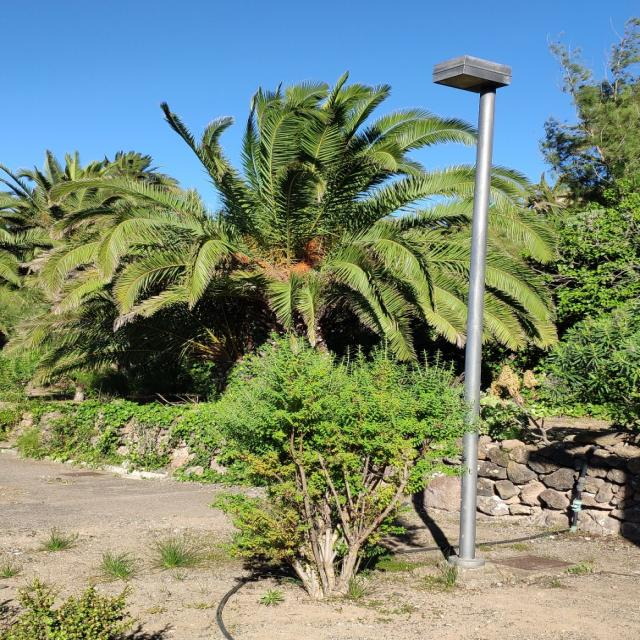Palm-Trees: (62, 66, 566, 407)
